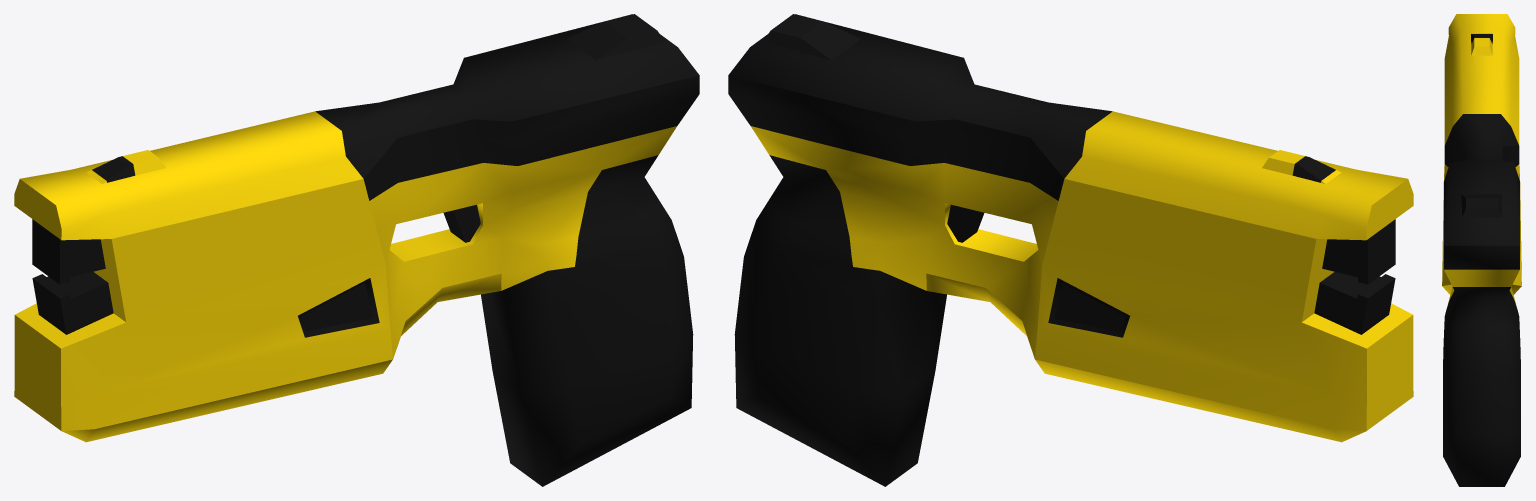
File: M_Tazer.FBX
3 views of the same model, side by side, from view 1: azimuth 30°, elevation 25°; view 2: azimuth 150°, elevation 25°; view 3: azimuth 270°, elevation 25° (orthographic). The views are drawn at different scales.
Visible parts, largest first — view 1: M_Taser; view 2: M_Taser; view 3: M_Taser.
Part boxes in pixels (box(x1,y1,x2,y2)): M_Taser: box(14, 14, 699, 486); M_Taser: box(728, 14, 1413, 486); M_Taser: box(1442, 14, 1521, 486).
Size of the model in its own units: 20.33 by 12.88 by 3.12.
